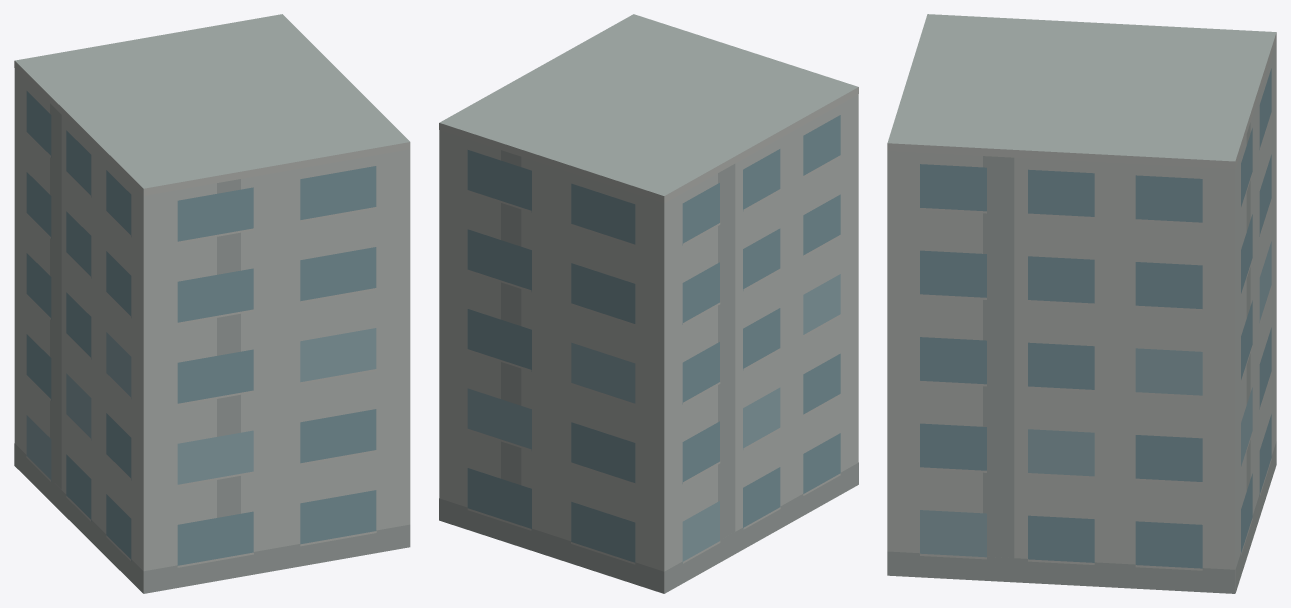
The model's file is survey-upis-32532321.glb.
The picture shows the model from 3 angles, left to right: view 1: azimuth 30°, elevation 25°; view 2: azimuth 150°, elevation 25°; view 3: azimuth 270°, elevation 25°; orthographic projection. The views are drawn at different scales.
Visible parts, largest first — view 1: survey-upis-32532321.tmp; view 2: survey-upis-32532321.tmp; view 3: survey-upis-32532321.tmp.
Boxes of the visible parts, bbox=[...] form: survey-upis-32532321.tmp: bbox=[14, 14, 410, 593]; survey-upis-32532321.tmp: bbox=[439, 14, 858, 593]; survey-upis-32532321.tmp: bbox=[887, 14, 1276, 593].
Bounding box in the file's own units: 9.88 × 13.5 × 11.02.
